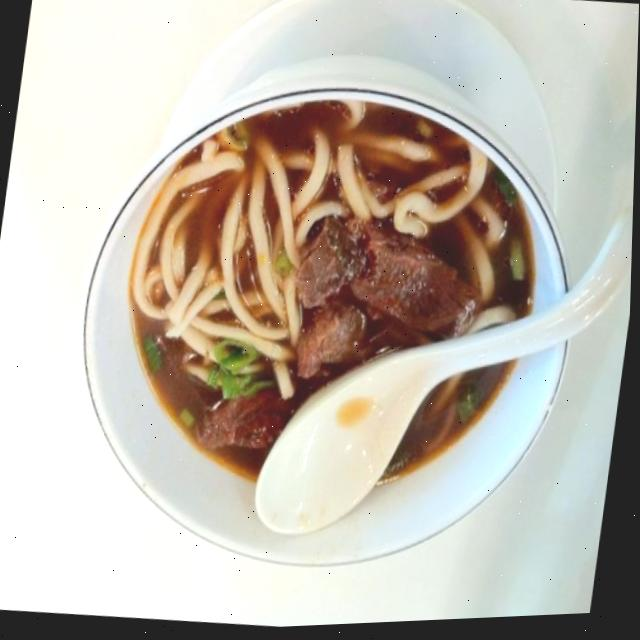面条主食: (72, 53, 580, 602)
